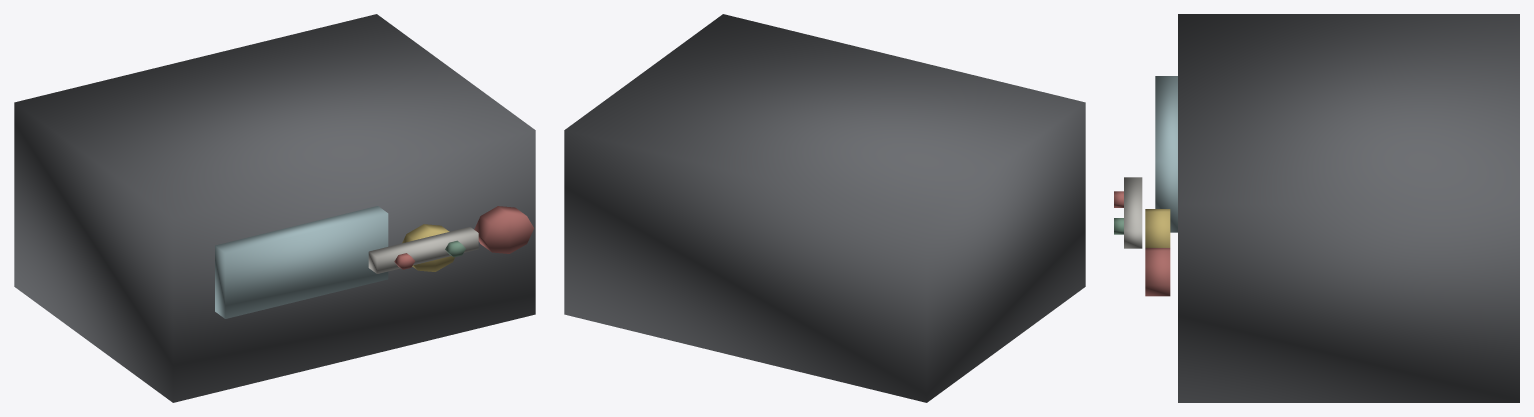
The model's file is component_tester__squat.glb.
3 renders of one model, left to right at view 1: azimuth 30°, elevation 25°; view 2: azimuth 150°, elevation 25°; view 3: azimuth 270°, elevation 25°, orthographic. The views are drawn at different scales.
Parts seen in each view (by area): view 1: world; view 2: world; view 3: world.
Boxes of the visible parts, x1,y1,x2,y2 form: world: (14,14,535,402); world: (564,14,1085,402); world: (1114,14,1519,402).
Size of the model in its own units: 0.484 by 0.2352 by 0.4358.
